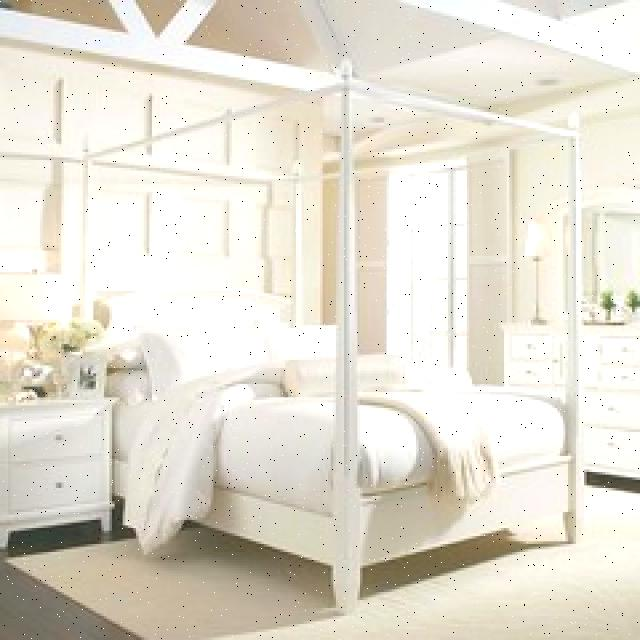bed: (120, 281, 568, 559)
